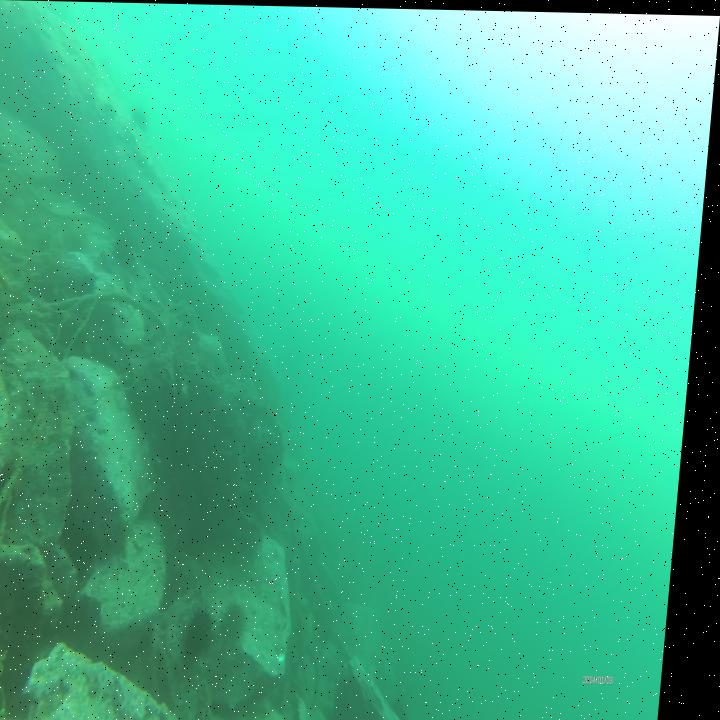echinus: (191, 594, 229, 670), (228, 592, 262, 647), (115, 231, 142, 270), (399, 690, 429, 720), (130, 102, 155, 138)
